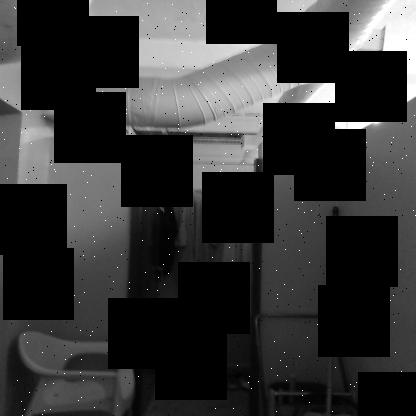Porte: (124, 151, 266, 416)
